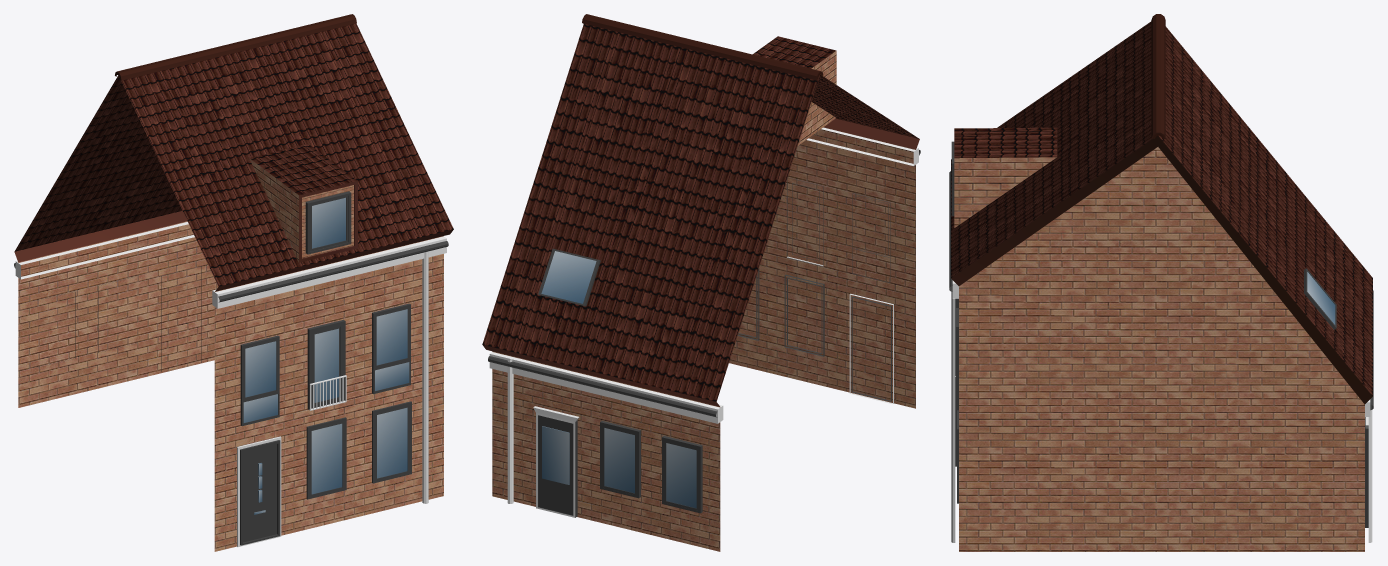
The model's file is It_Buthus_9.fbx.
3 views of the same model, side by side, from view 1: azimuth 30°, elevation 25°; view 2: azimuth 150°, elevation 25°; view 3: azimuth 270°, elevation 25° (orthographic). The views are drawn at different scales.
Visible parts, largest first — view 1: It_Buthus_9; view 2: It_Buthus_9; view 3: It_Buthus_9.
Part boxes in pixels (bbox=[...]): It_Buthus_9: bbox=[14, 14, 453, 551]; It_Buthus_9: bbox=[482, 14, 920, 551]; It_Buthus_9: bbox=[949, 14, 1373, 551].
Size of the model in its own units: 6.22 by 10.31 by 9.39.
